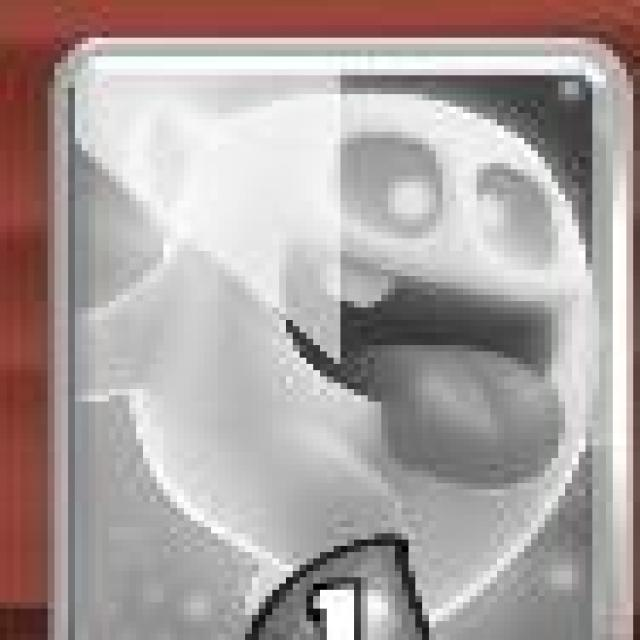Heal_Spirit: (63, 47, 635, 640)
